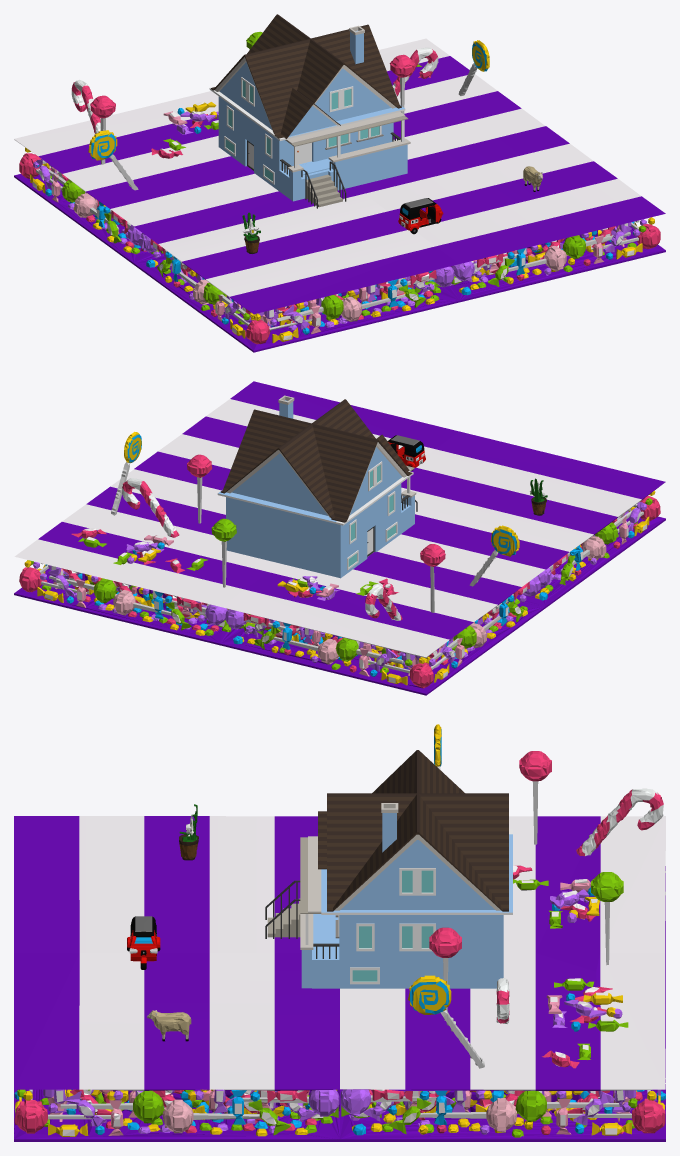
3 renders of one model, top to bottom at view 1: azimuth 30°, elevation 25°; view 2: azimuth 150°, elevation 25°; view 3: azimuth 270°, elevation 25°, orthographic. The views are drawn at different scales.
Visible parts, largest first — view 1: TERRAIN_CANDY, Cube.1594, VEHICLES_TUC_TUC, OBJRANDOM_MONJA BLANCA; view 2: TERRAIN_CANDY, Cube.1594, VEHICLES_TUC_TUC; view 3: TERRAIN_CANDY, Cube.1594, VEHICLES_TUC_TUC, ANIMAL_OVEJA, OBJRANDOM_MONJA BLANCA.
Part boxes in pixels (left/top/right/bottom): TERRAIN_CANDY: left=14, top=31, right=665, bottom=352; Cube.1594: left=209, top=14, right=410, bottom=208; VEHICLES_TUC_TUC: left=398, top=198, right=443, bottom=234; OBJRANDOM_MONJA BLANCA: left=242, top=212, right=260, bottom=253; TERRAIN_CANDY: left=14, top=381, right=665, bottom=695; Cube.1594: left=217, top=395, right=417, bottom=578; VEHICLES_TUC_TUC: left=387, top=435, right=425, bottom=470; TERRAIN_CANDY: left=14, top=724, right=665, bottom=1141; Cube.1594: left=265, top=750, right=512, bottom=988; VEHICLES_TUC_TUC: left=127, top=916, right=160, bottom=969; ANIMAL_OVEJA: left=147, top=1010, right=191, bottom=1041; OBJRANDOM_MONJA BLANCA: left=179, top=804, right=198, bottom=860.
Bounding box in the file's own units: 4059 × 1736 × 4000.
Materials: 33 (2 with a texture image).
